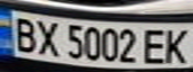0: (81, 24, 103, 62), (100, 25, 121, 63)
2: (118, 25, 142, 64)
5: (60, 21, 84, 61)
B: (6, 14, 42, 53)
E: (139, 26, 172, 65)
K: (160, 25, 193, 64)
X: (33, 17, 63, 57)
